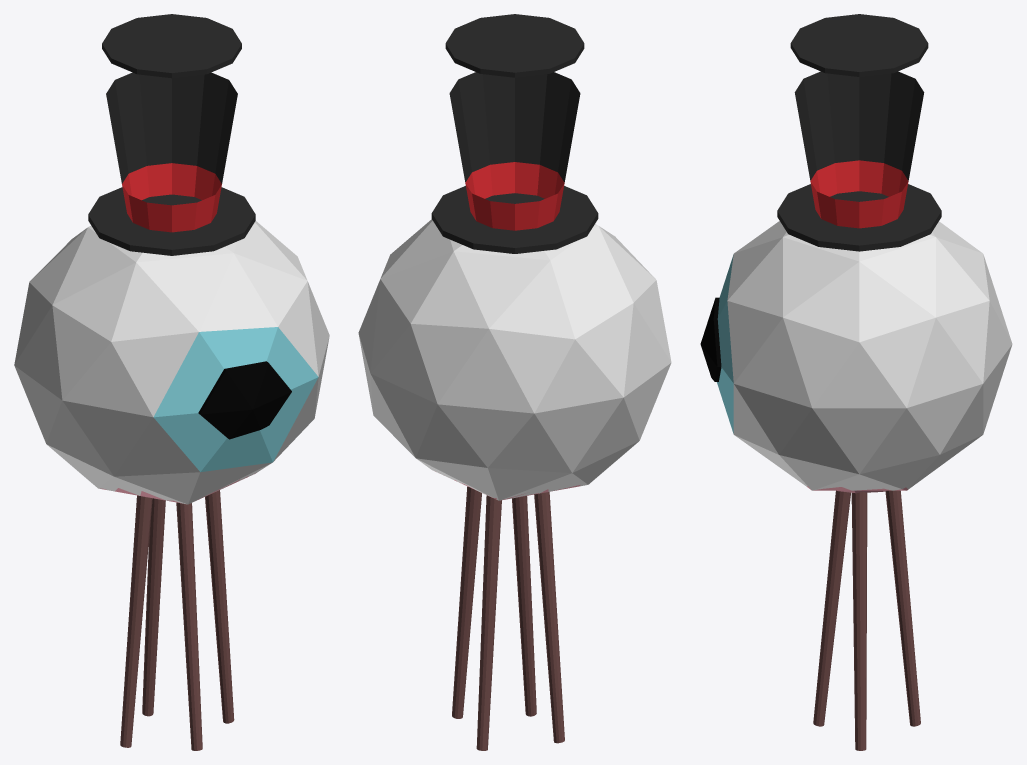
The model's file is OLHO.fbx.
3 views of the same model, side by side, from view 1: azimuth 30°, elevation 25°; view 2: azimuth 150°, elevation 25°; view 3: azimuth 270°, elevation 25° (orthographic).
Parts seen in each view (by area): view 1: Icosphere, Cylinder.002, Cylinder.001, Cylinder.003; view 2: Icosphere, Cylinder.002, Cylinder.001, Cylinder.003; view 3: Icosphere, Cylinder.002, Cylinder.001, Cylinder.003.
Part boxes in pixels (x1,y1,x2,y2): Icosphere: [14, 221, 329, 504]; Cylinder.002: [88, 72, 255, 255]; Cylinder.001: [120, 490, 234, 750]; Cylinder.003: [102, 14, 241, 78]; Icosphere: [358, 219, 671, 500]; Cylinder.002: [431, 72, 598, 253]; Cylinder.001: [452, 486, 564, 750]; Cylinder.003: [445, 14, 584, 77]; Icosphere: [700, 221, 1012, 493]; Cylinder.002: [777, 71, 941, 251]; Cylinder.001: [813, 490, 920, 750]; Cylinder.003: [790, 14, 928, 76].
Size of the model in its own units: 163 by 404 by 168.
